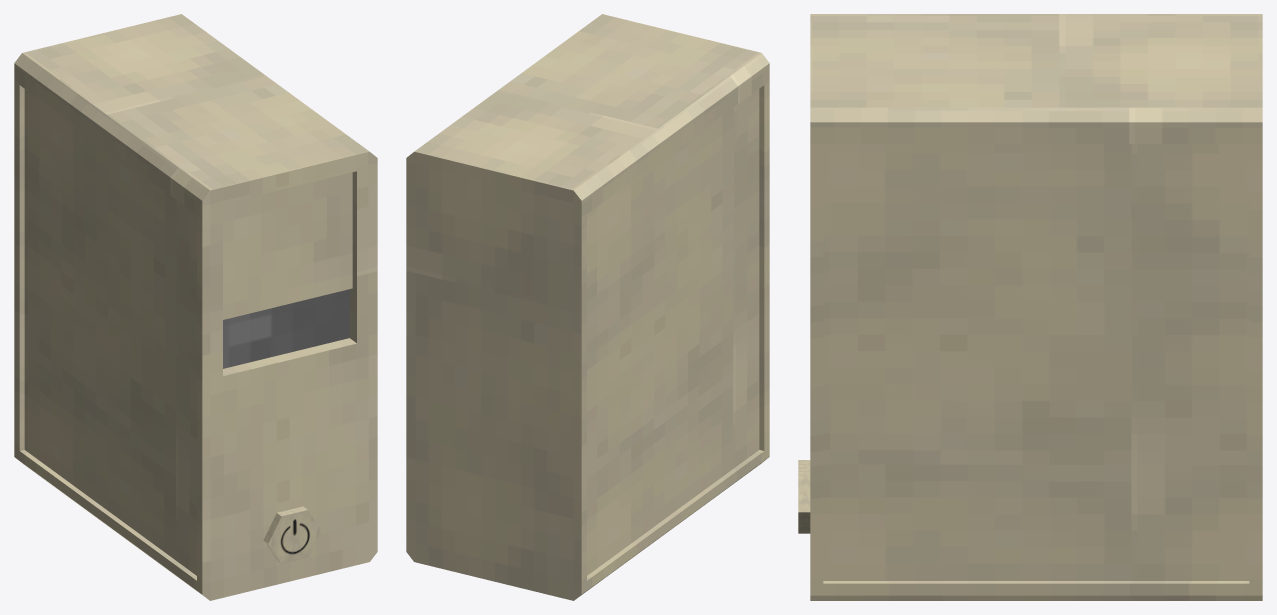
Rendered from SM_Computer.fbx.
3 views of the same model, side by side, from view 1: azimuth 30°, elevation 25°; view 2: azimuth 150°, elevation 25°; view 3: azimuth 270°, elevation 25° (orthographic). The views are drawn at different scales.
Visible parts, largest first — view 1: SM_Computer; view 2: SM_Computer; view 3: SM_Computer.
Part boxes in pixels (x1,y1,x2,y2): SM_Computer: (14, 14, 377, 600); SM_Computer: (406, 14, 769, 600); SM_Computer: (798, 14, 1262, 600).
Size of the model in its own units: 27.56 by 61.61 by 52.52.
Materials: 5 (5 with a texture image).
